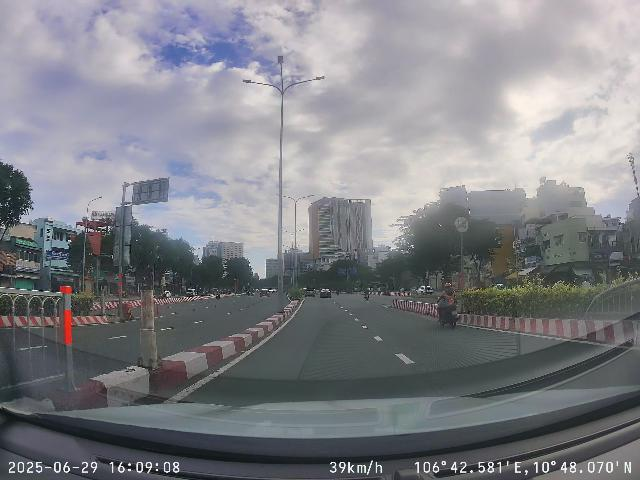134-het-han-che-toc-do-toi-da: (455, 216, 469, 233)
